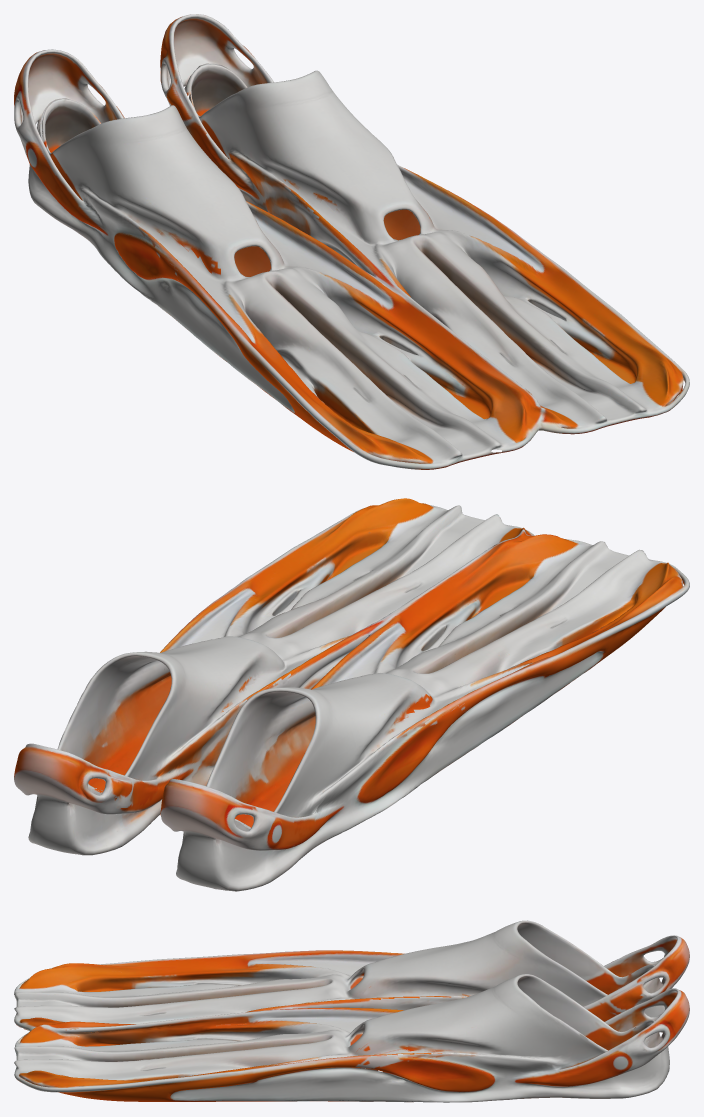
The model's file is fins.glb.
3 views of the same model, one above another, from view 1: azimuth 30°, elevation 25°; view 2: azimuth 150°, elevation 25°; view 3: azimuth 270°, elevation 25° (orthographic). The views are drawn at different scales.
Parts seen in each view (by area): view 1: tripo_node_9b00b0c2; view 2: tripo_node_9b00b0c2; view 3: tripo_node_9b00b0c2.
Part boxes in pixels (x1,y1,x2,y2): tripo_node_9b00b0c2: (14, 14, 689, 469); tripo_node_9b00b0c2: (14, 498, 689, 891); tripo_node_9b00b0c2: (14, 920, 689, 1102).
Bounding box in the file's own units: 42.21 × 16.21 × 97.74.
1 material, 1 textured.
